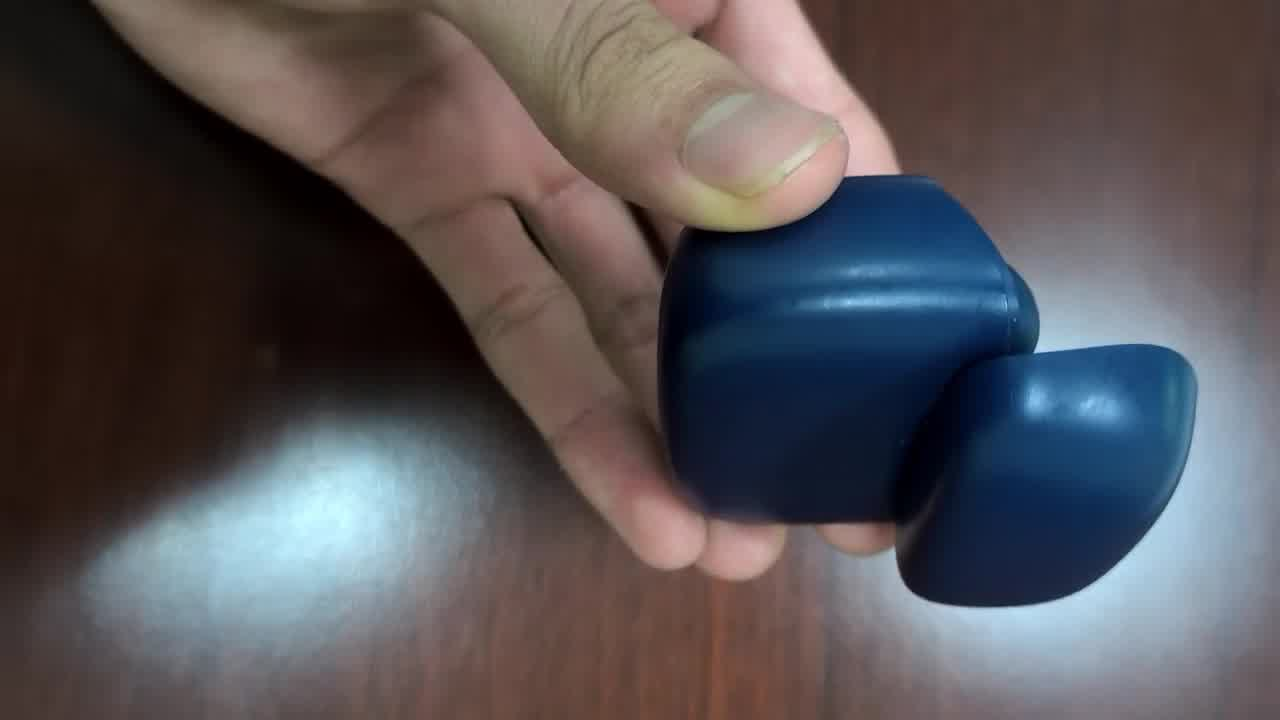Case: (658, 175, 1194, 605)
